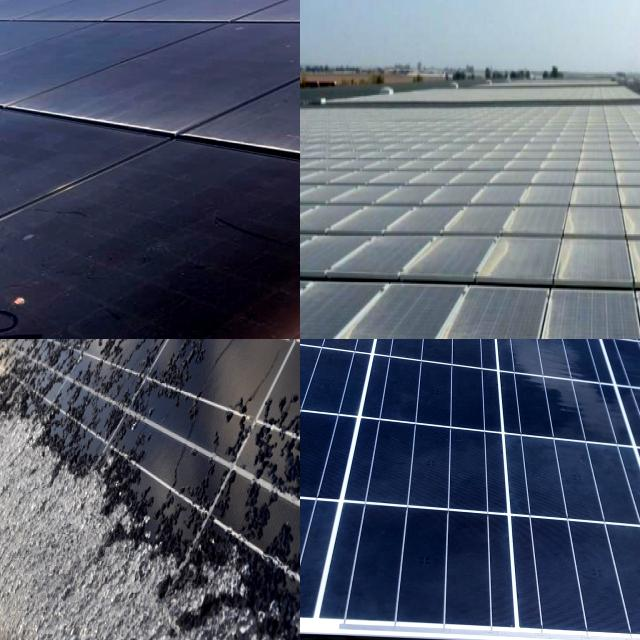crack: (300, 339, 640, 640)
dust: (0, 110, 147, 253), (168, 147, 300, 257), (31, 150, 158, 263), (0, 0, 126, 96), (311, 222, 406, 339), (531, 221, 615, 339), (202, 0, 300, 101), (431, 234, 520, 339), (482, 129, 587, 208), (364, 129, 460, 208), (300, 238, 340, 339), (300, 122, 350, 202), (619, 129, 640, 227)
panel: (46, 424, 161, 626), (184, 492, 269, 640), (0, 403, 40, 558), (18, 339, 112, 402), (0, 480, 63, 570), (101, 339, 211, 375), (0, 571, 54, 640), (0, 579, 57, 640), (0, 402, 40, 468), (0, 339, 20, 463), (272, 554, 300, 640), (0, 339, 30, 394), (0, 339, 29, 387)
